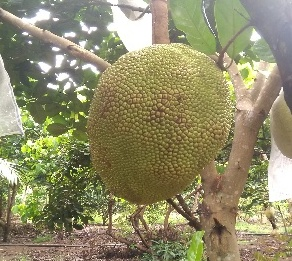Mit: (89, 44, 231, 206)
